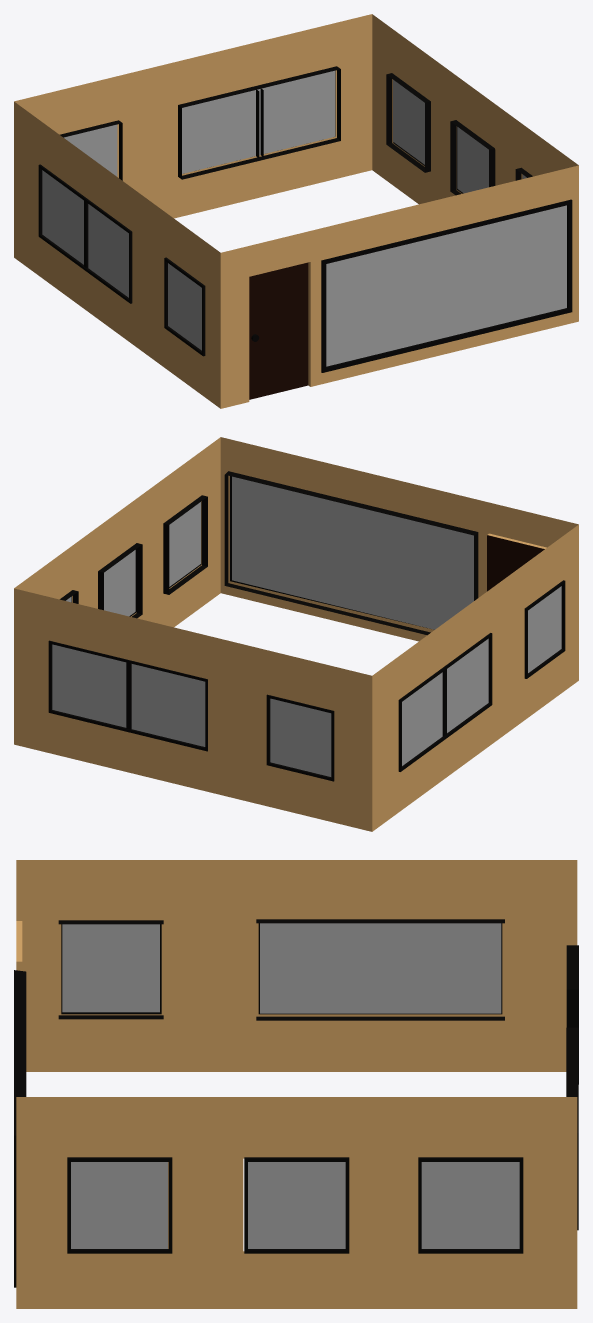
File: Prop_HouseBottom_03.FBX
3 views of the same model, one above another, from view 1: azimuth 30°, elevation 25°; view 2: azimuth 150°, elevation 25°; view 3: azimuth 270°, elevation 25° (orthographic). The views are drawn at different scales.
Parts seen in each view (by area): view 1: Prop_HouseBottom_03; view 2: Prop_HouseBottom_03; view 3: Prop_HouseBottom_03.
Boxes of the visible parts, x1,y1,x2,y2 form: Prop_HouseBottom_03: (14,14,578,408); Prop_HouseBottom_03: (14,437,578,831); Prop_HouseBottom_03: (14,860,578,1308).
Bounding box in the file's own units: 239 × 98.43 × 238.
